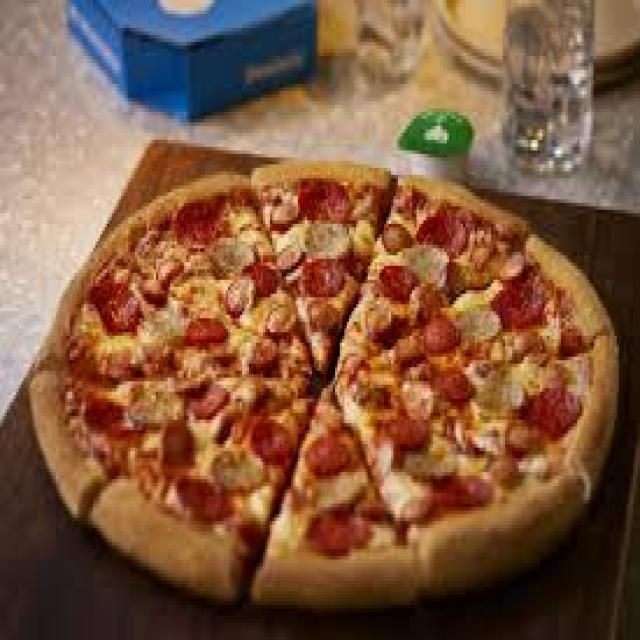피자: (31, 162, 617, 608)
